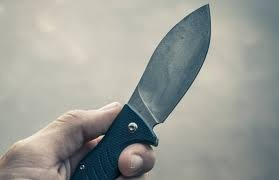knife: (68, 2, 212, 180)
